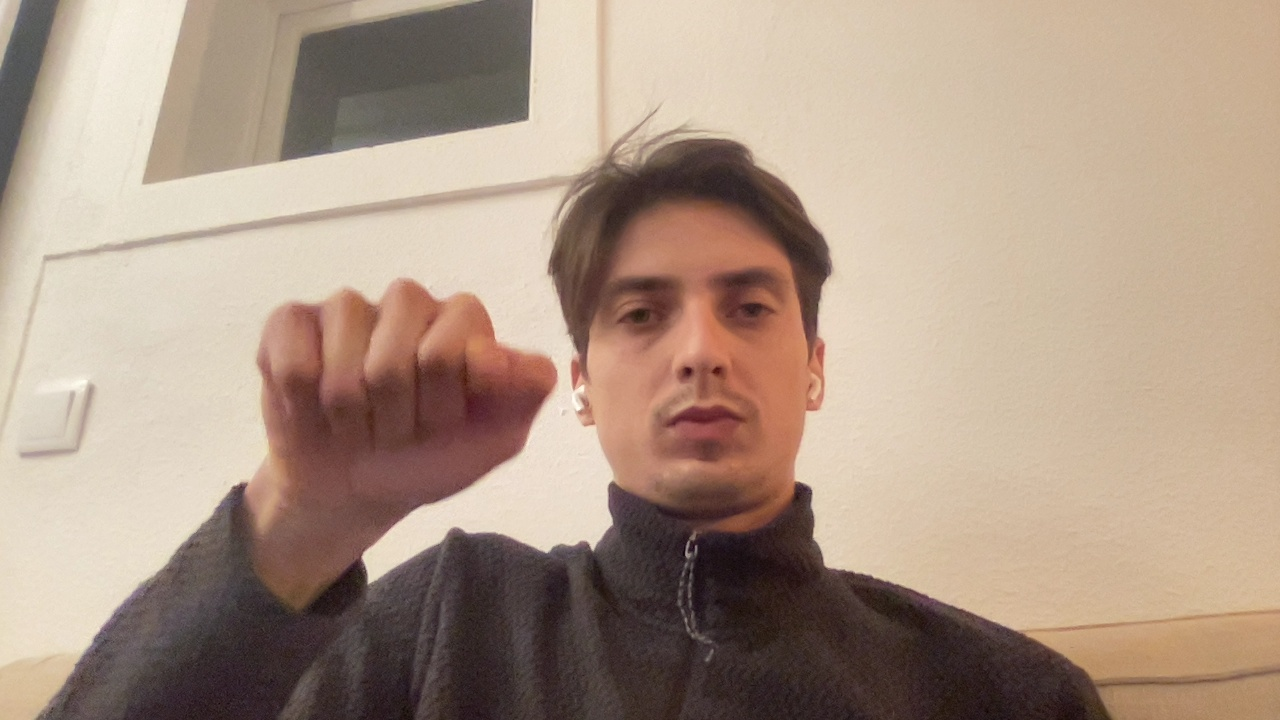Yes: (224, 246, 574, 540)
